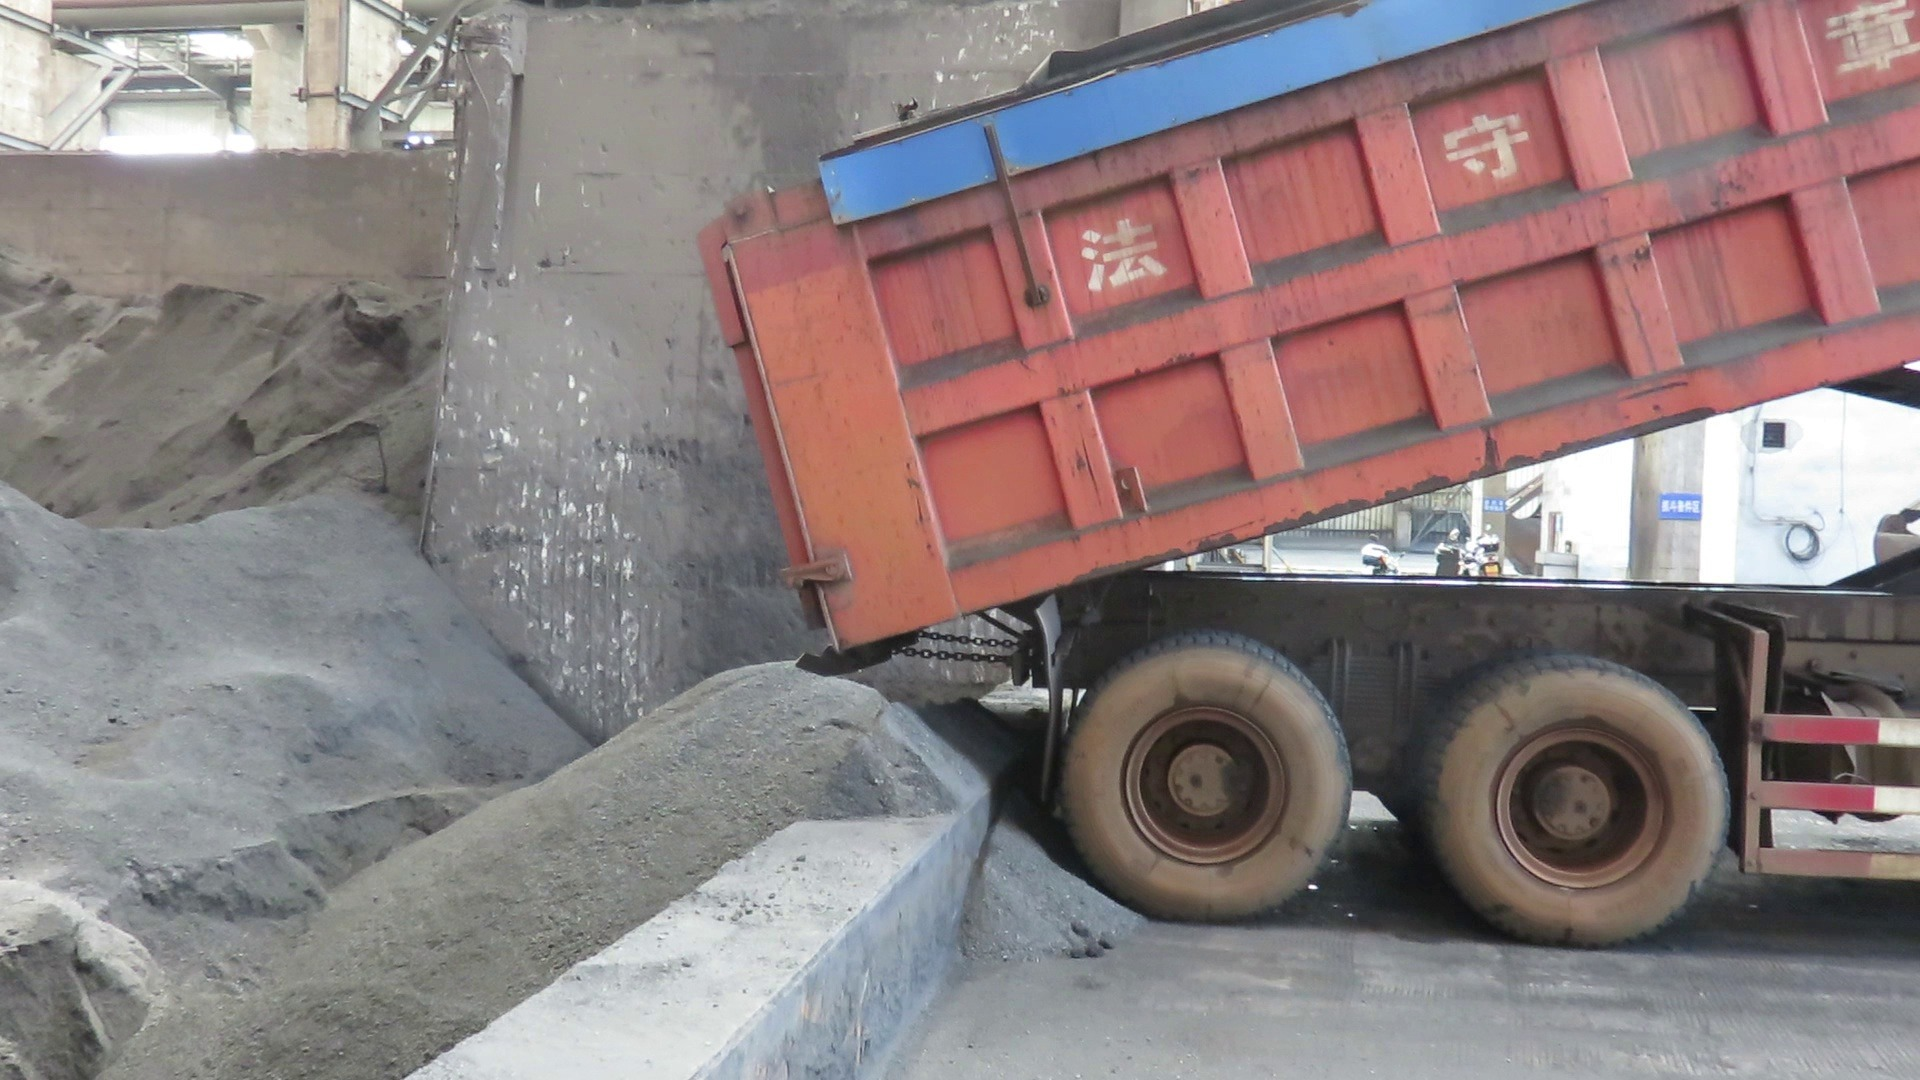truck: (683, 0, 1920, 960)
